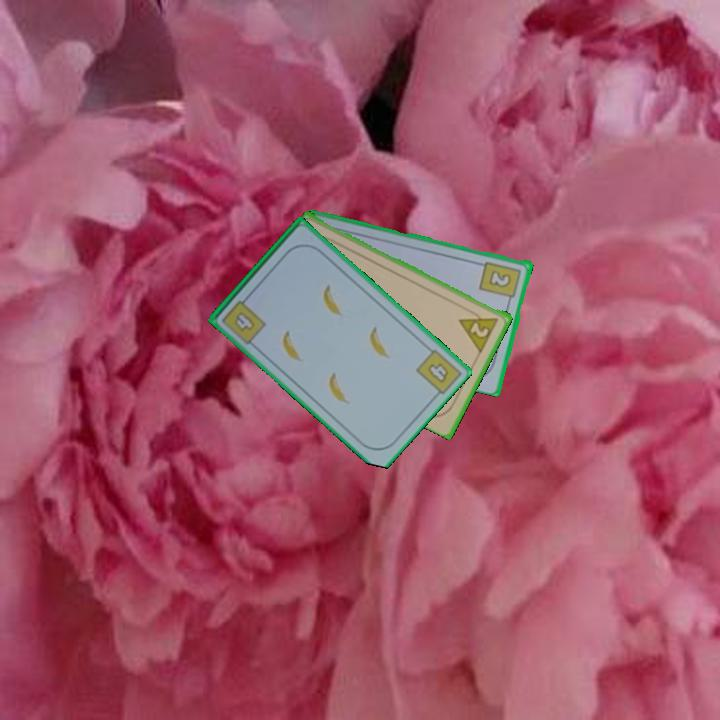2b: (477, 258, 524, 306)
2p: (456, 305, 502, 354)
4b: (218, 291, 269, 345), (424, 359, 452, 386)
